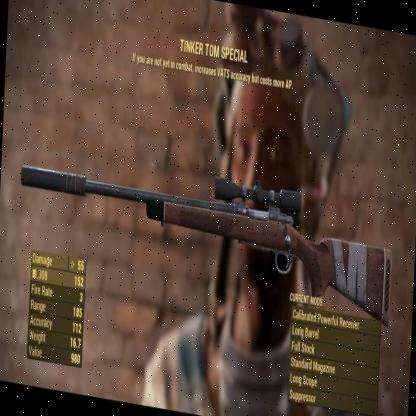rifle: (14, 153, 396, 321)
